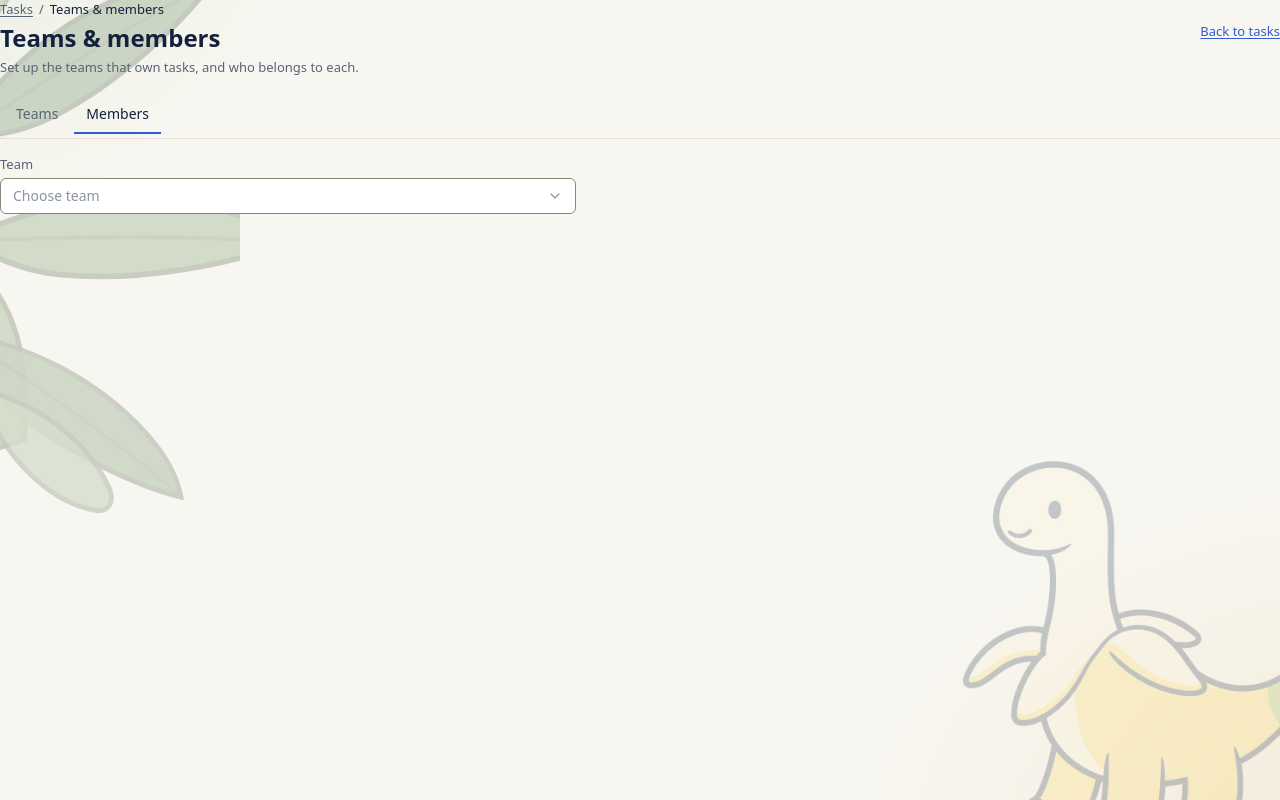
Test: R1 destructive confirmations (teams) › N17 member HTTP401 retains opener and editor without reload
Click the dropdown labelled "Choose team": coordinates (56, 195) [0,178,576,214]
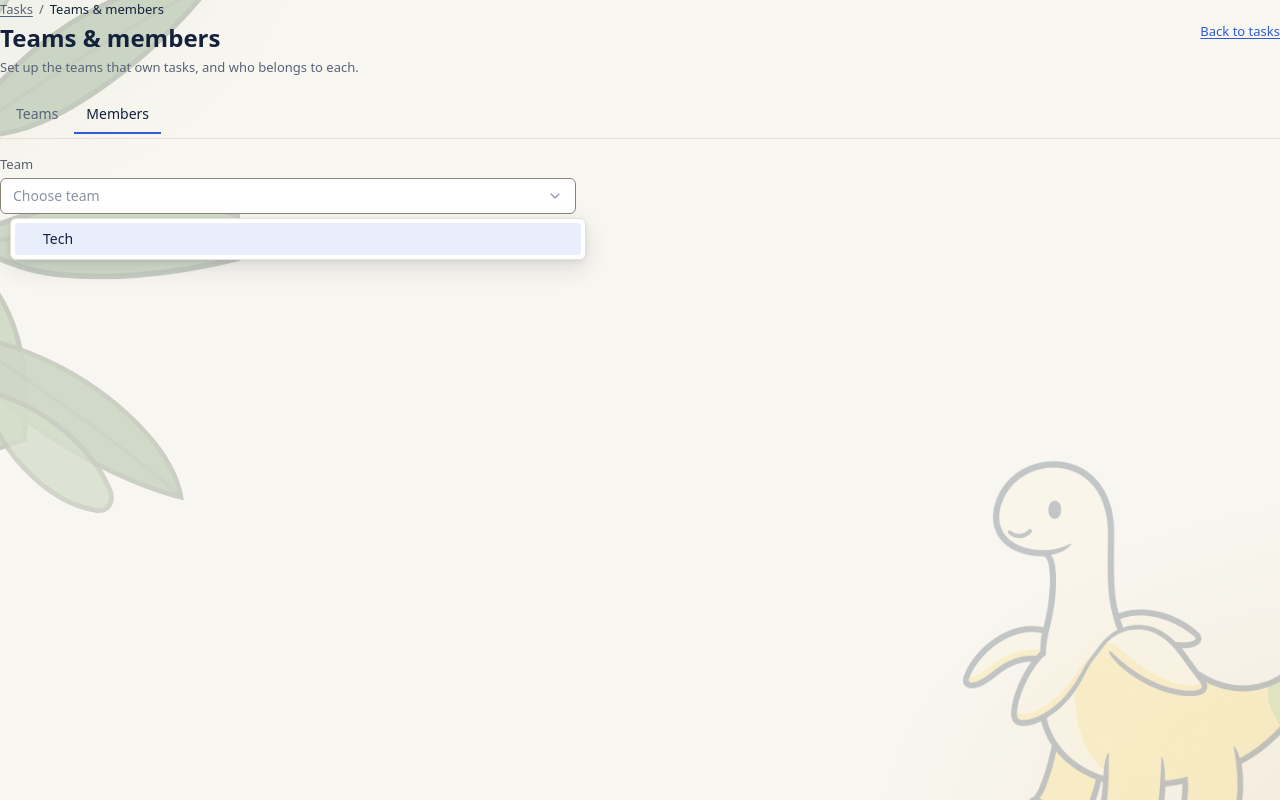
Click the option "Tech": coordinates (58, 238) [15,223,581,255]
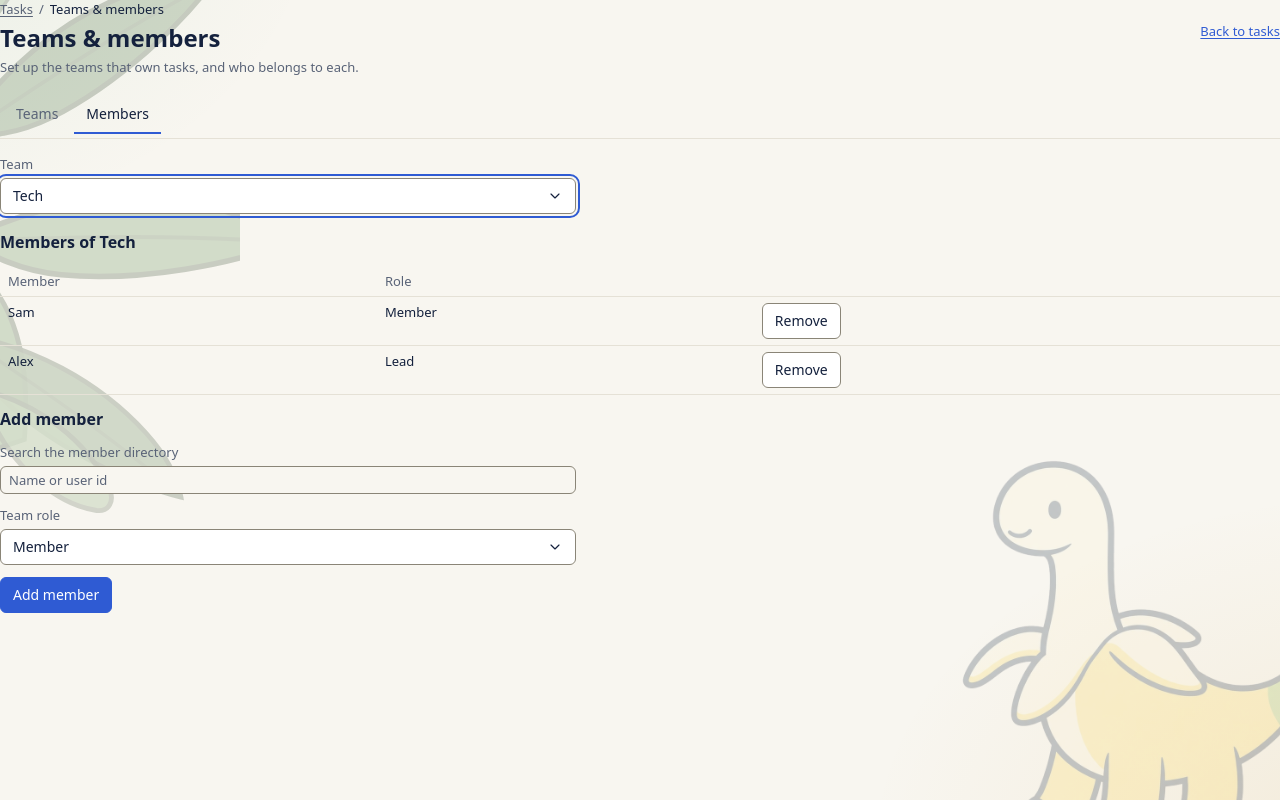
Click the button "Remove" in the row of "Sam": coordinates (801, 321) [762,303,841,339]
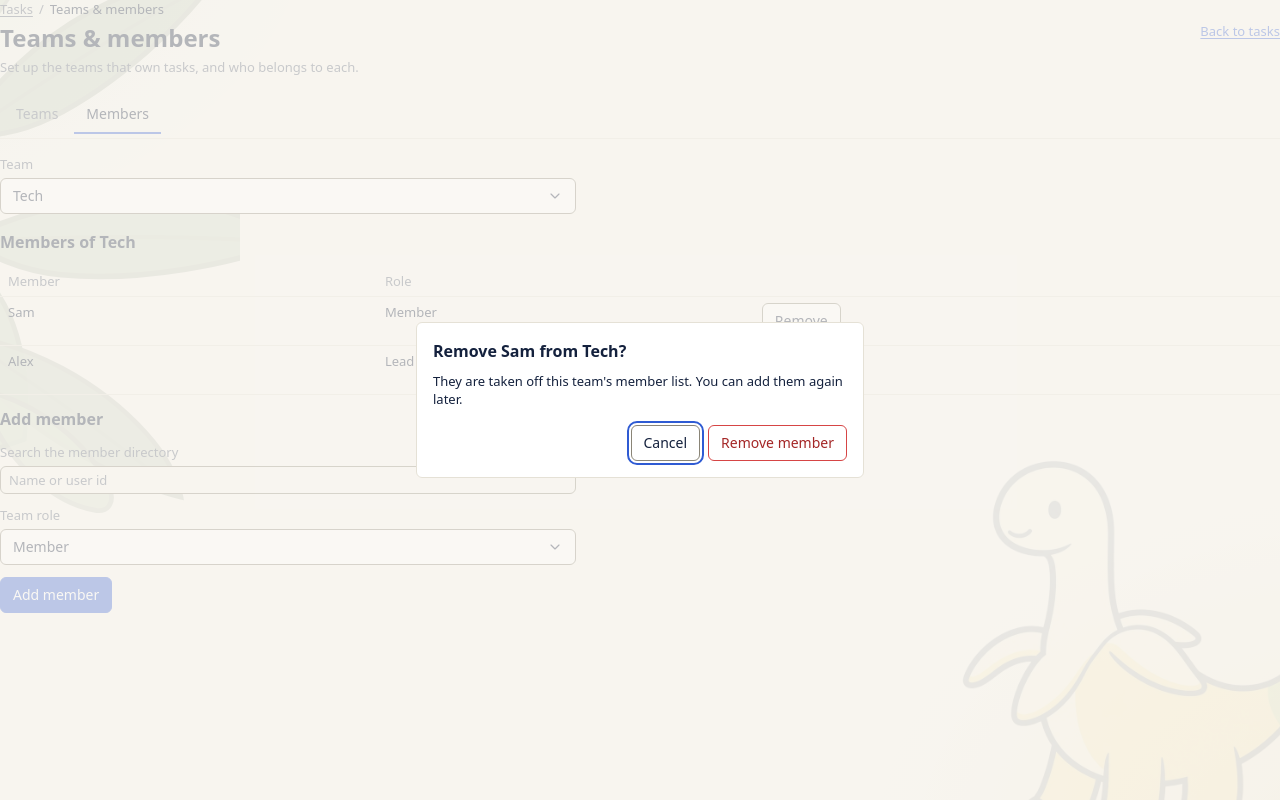
Click the button "Remove member": coordinates (778, 443) [708,425,847,461]
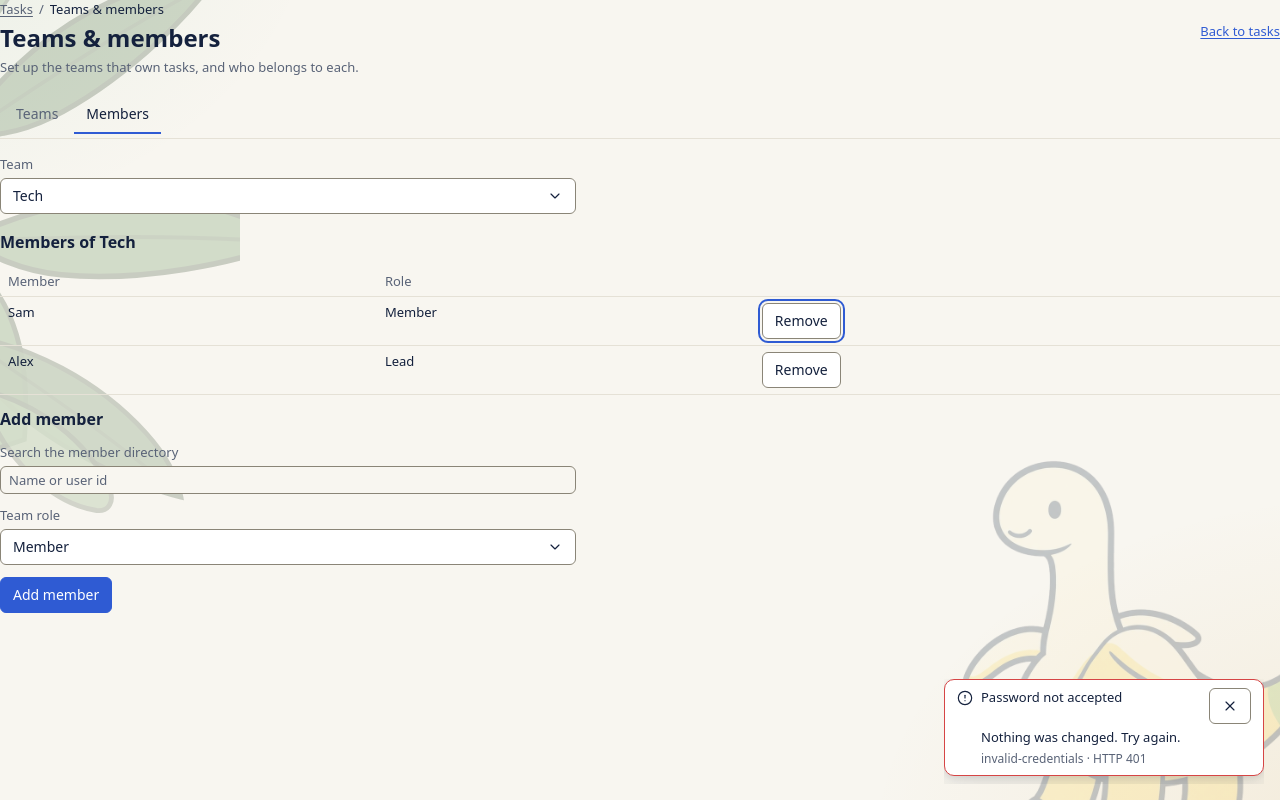
Result: the dialog is gone
Result: the message shows "invalid-credentials" at [981,750,1146,767]
